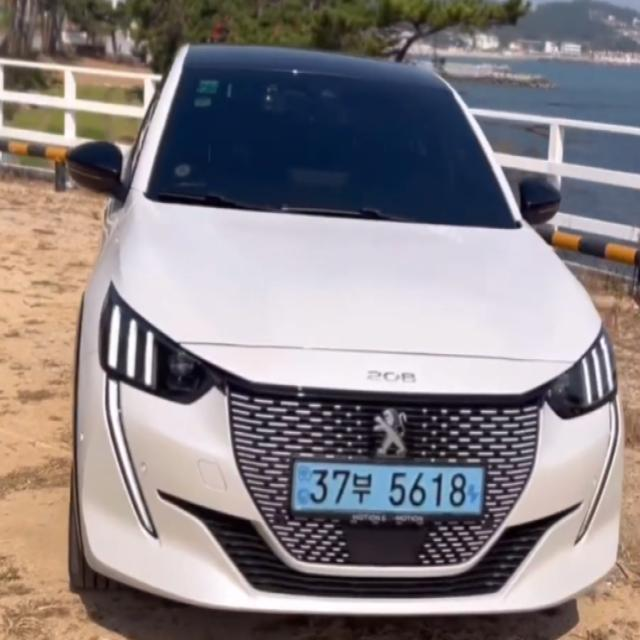car: (270, 441, 508, 536)
carev: (289, 458, 313, 518), (465, 464, 489, 518)
